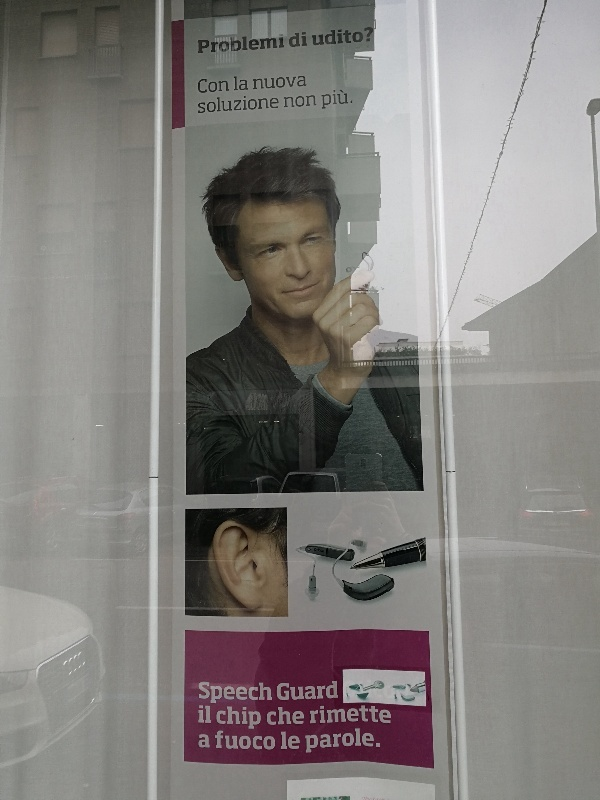text: (257, 681, 273, 706), (209, 681, 224, 706), (225, 681, 240, 706), (241, 681, 256, 706), (225, 706, 240, 731), (241, 706, 256, 731), (305, 728, 320, 753), (321, 728, 336, 753), (337, 728, 352, 753), (353, 728, 368, 753), (337, 87, 353, 109), (289, 705, 305, 726), (209, 32, 224, 54), (225, 32, 240, 54), (241, 32, 256, 54), (257, 32, 272, 54), (321, 25, 336, 47), (337, 25, 352, 47), (353, 25, 368, 47), (321, 87, 336, 109), (209, 93, 224, 114), (225, 93, 240, 114), (241, 93, 256, 114), (257, 93, 272, 114), (289, 680, 304, 701), (305, 680, 320, 701), (321, 680, 336, 701), (225, 730, 240, 751), (241, 730, 256, 751), (257, 730, 272, 751), (273, 705, 288, 726), (369, 728, 381, 753), (289, 30, 304, 49), (321, 706, 336, 725), (337, 706, 352, 725), (353, 706, 368, 725), (369, 706, 384, 725), (273, 32, 285, 54), (209, 78, 224, 95), (197, 32, 208, 54), (257, 74, 272, 90), (273, 74, 288, 90), (289, 74, 304, 90), (289, 731, 301, 751), (277, 680, 288, 701), (289, 94, 304, 109), (199, 681, 208, 706), (198, 93, 208, 114), (198, 704, 208, 725), (309, 706, 320, 725), (216, 706, 224, 731), (215, 730, 224, 751), (305, 94, 317, 109), (312, 25, 320, 47), (198, 78, 208, 95), (273, 93, 280, 114), (199, 734, 208, 750), (281, 731, 288, 751), (385, 706, 392, 725), (241, 76, 249, 92), (266, 705, 272, 726), (257, 706, 262, 731), (234, 76, 240, 92), (369, 25, 373, 47), (225, 78, 230, 95), (283, 94, 288, 109), (273, 730, 276, 751), (305, 30, 308, 49), (253, 74, 256, 90), (337, 680, 339, 701), (209, 704, 211, 725), (305, 74, 307, 90), (209, 734, 210, 750)
